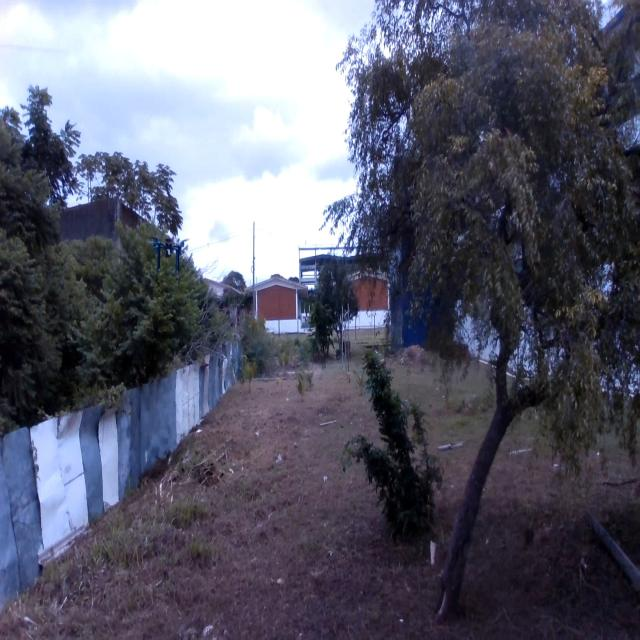-uav-: (144, 222, 188, 280)
